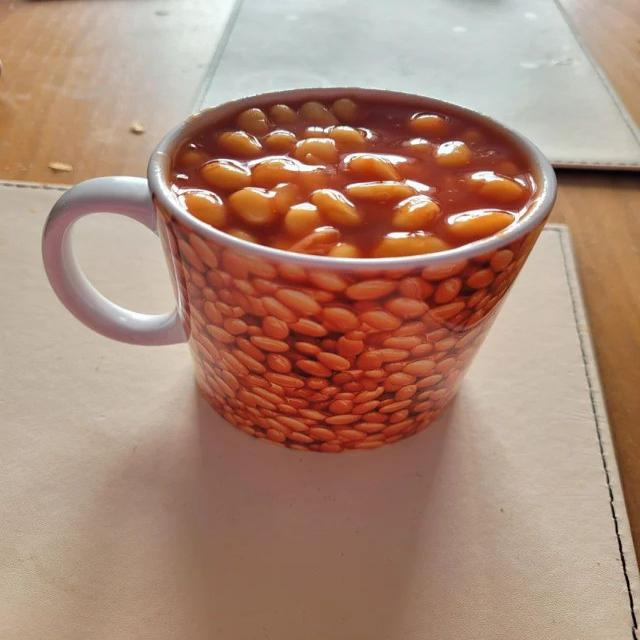beans: (165, 99, 536, 452), (447, 211, 514, 241), (372, 232, 449, 257), (310, 190, 362, 226), (228, 188, 276, 225), (180, 191, 226, 228), (392, 195, 439, 231), (470, 172, 524, 203), (346, 154, 400, 181), (345, 181, 414, 202), (251, 158, 297, 188), (289, 227, 340, 254), (283, 203, 321, 237), (275, 289, 320, 315), (217, 132, 261, 158), (293, 138, 337, 164), (271, 183, 304, 214), (345, 280, 395, 300), (434, 141, 471, 168), (408, 114, 448, 137), (421, 260, 467, 280), (299, 102, 337, 126), (323, 307, 358, 333), (236, 109, 270, 135), (328, 127, 365, 150), (385, 298, 427, 318), (178, 240, 204, 272), (398, 277, 433, 300), (361, 310, 401, 330), (298, 167, 330, 192), (433, 277, 462, 304), (263, 130, 297, 153), (308, 271, 347, 291), (234, 350, 266, 373), (222, 250, 247, 279), (332, 99, 359, 123), (290, 319, 327, 336), (261, 316, 288, 339), (277, 262, 306, 283), (250, 336, 288, 352), (265, 372, 303, 388), (403, 138, 435, 157), (296, 360, 331, 377), (316, 352, 349, 370), (269, 105, 297, 126), (179, 148, 208, 168), (465, 269, 494, 288), (336, 337, 363, 357), (384, 372, 414, 390), (356, 351, 382, 371), (490, 250, 513, 272), (395, 321, 426, 337), (275, 416, 308, 431), (383, 337, 420, 350), (328, 243, 360, 258), (252, 388, 280, 405), (207, 325, 233, 343), (267, 354, 291, 373), (382, 420, 412, 435), (403, 361, 435, 375), (203, 301, 222, 324), (226, 229, 257, 243), (379, 400, 411, 413), (223, 319, 247, 335), (466, 289, 486, 308), (352, 400, 379, 414), (308, 427, 334, 441), (436, 357, 456, 375), (394, 385, 416, 401), (325, 415, 360, 425), (294, 342, 320, 355), (328, 400, 352, 414), (332, 370, 354, 385), (299, 409, 326, 421), (337, 430, 365, 441), (434, 337, 456, 351), (426, 328, 448, 342), (472, 251, 495, 264), (358, 422, 384, 433), (288, 432, 312, 443), (363, 412, 387, 423), (306, 378, 328, 390), (266, 429, 286, 442), (302, 127, 325, 138), (276, 403, 296, 415), (364, 369, 385, 379), (354, 442, 384, 449), (431, 389, 448, 401), (320, 443, 342, 452), (345, 331, 365, 340)
